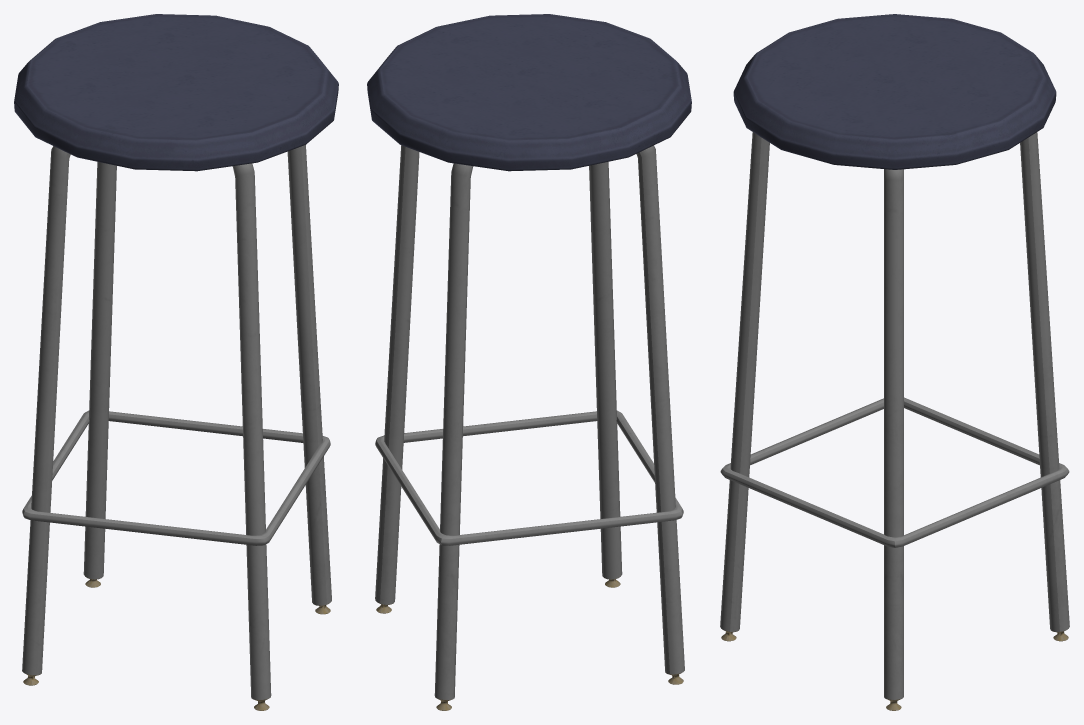
Rendered from simple_metal_stool.glb.
3 views of the same model, side by side, from view 1: azimuth 30°, elevation 25°; view 2: azimuth 150°, elevation 25°; view 3: azimuth 270°, elevation 25° (orthographic).
Parts seen in each view (by area): view 1: Top_Low, Legs_Low, Bind_Low; view 2: Top_Low, Legs_Low, Bind_Low; view 3: Top_Low, Legs_Low, Bind_Low.
Part boxes in pixels (box(x1,y1,x2,y2)): Top_Low: box(14, 14, 338, 171); Legs_Low: box(22, 145, 331, 710); Bind_Low: box(22, 410, 330, 545); Top_Low: box(367, 14, 691, 171); Legs_Low: box(375, 145, 684, 710); Bind_Low: box(375, 410, 683, 545); Top_Low: box(733, 14, 1056, 169); Legs_Low: box(720, 132, 1069, 710); Bind_Low: box(720, 397, 1069, 547).
Bounding box in the file's own units: 38.66 × 68.4 × 38.66.
1 material, 1 textured.
